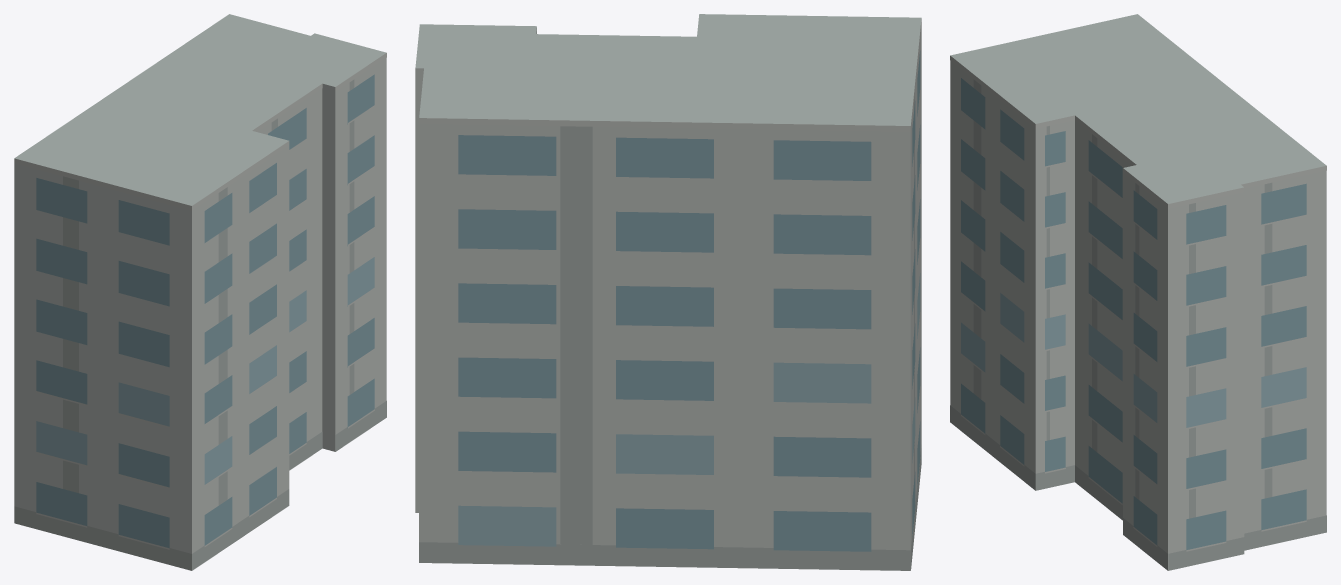
The model's file is survey-upis-33019605.glb.
3 views of the same model, side by side, from view 1: azimuth 30°, elevation 25°; view 2: azimuth 150°, elevation 25°; view 3: azimuth 270°, elevation 25° (orthographic). The views are drawn at different scales.
Visible parts, largest first — view 1: survey-upis-33019605.tmp; view 2: survey-upis-33019605.tmp; view 3: survey-upis-33019605.tmp.
Boxes of the visible parts, x1=… form: survey-upis-33019605.tmp: x1=14, y1=14, x2=386, y2=570; survey-upis-33019605.tmp: x1=415, y1=14, x2=921, y2=570; survey-upis-33019605.tmp: x1=950, y1=14, x2=1326, y2=570.
Bounding box in the file's own units: 20.36 × 18.3 × 17.04.
